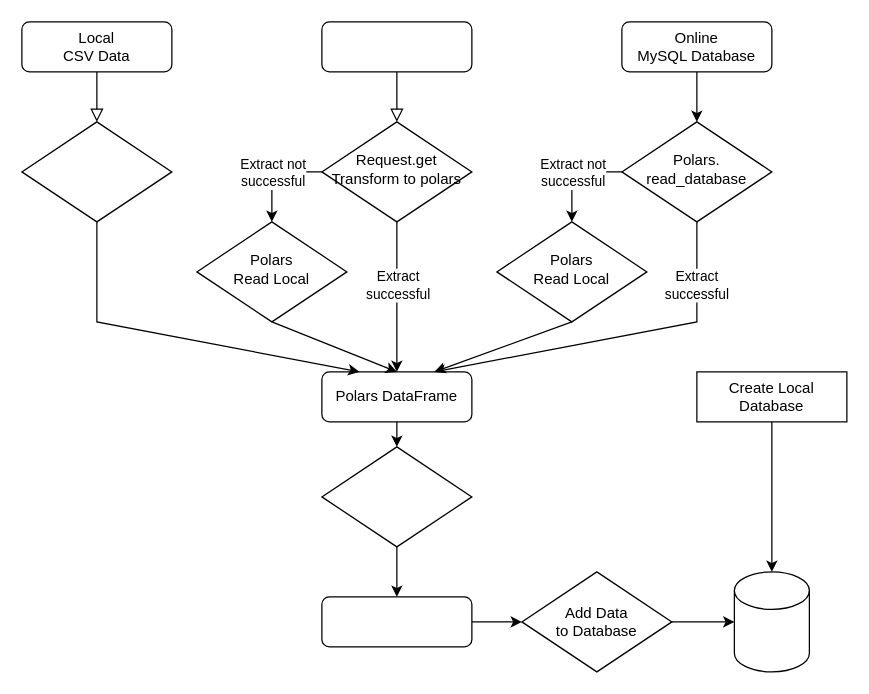
Image size: 869x694. Some labels were removed from this diagram. Here are the shapes that lost their labels. From the top down, the centre of each, then its label:
At (396,46): "Online store API Data".
At (96,171): "Polars Read CSV".
At (396,496): "Transform data sequentially".
At (396,621): "Transformed Polars DataFrame".
At (771,621): "Local MySQL Database".
